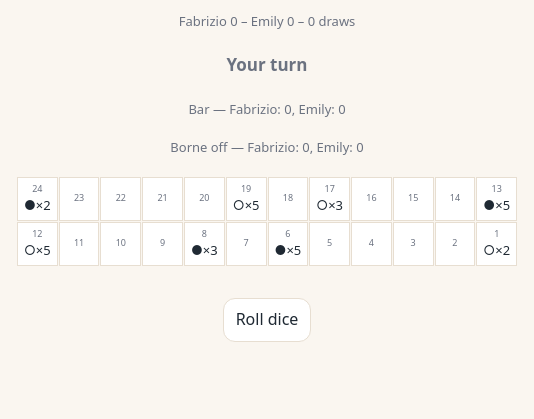
Test: BackgammonBoard › "Reset turn" scarta le mosse locali e fa ripartire dal tiro originale
Step 1. Click the button "Roll dice" → (267, 320), box left=223, top=298, right=311, bottom=342
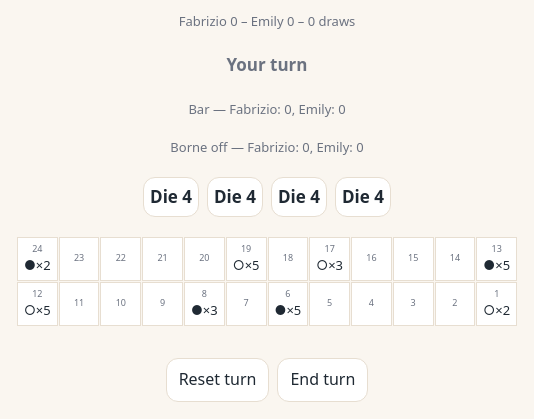
Step 2. Click the 1st button "Die 4" → (171, 197), box left=143, top=177, right=199, bottom=217
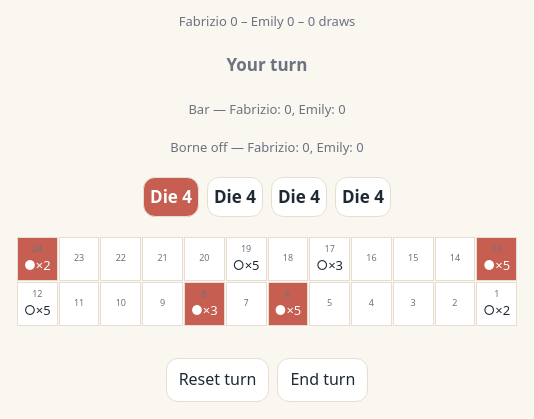
Step 3. Click the button named "Point 24" → (37, 259), box left=17, top=237, right=58, bottom=281
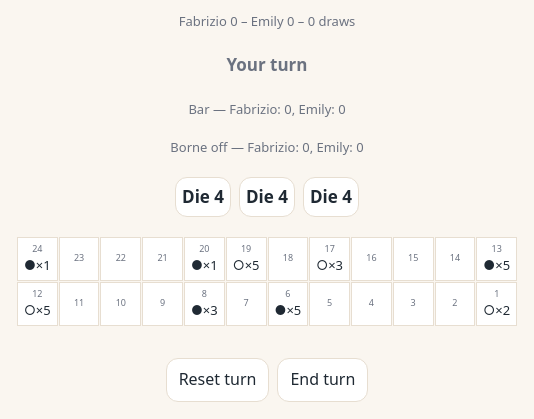
Step 4. Click the button "Reset turn" → (218, 380), box left=166, top=358, right=269, bottom=402
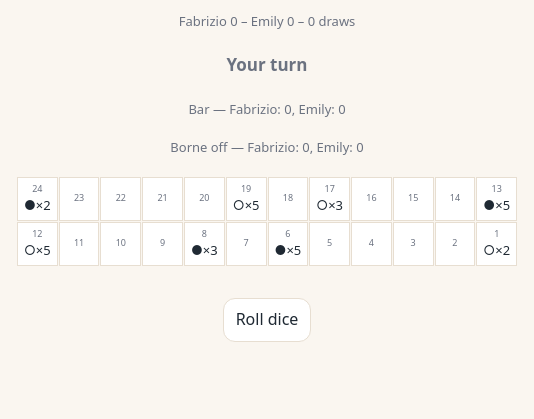
Result: the button "Roll dice" is shown at left=223, top=298, right=311, bottom=342
Result: the button "End turn" is gone
